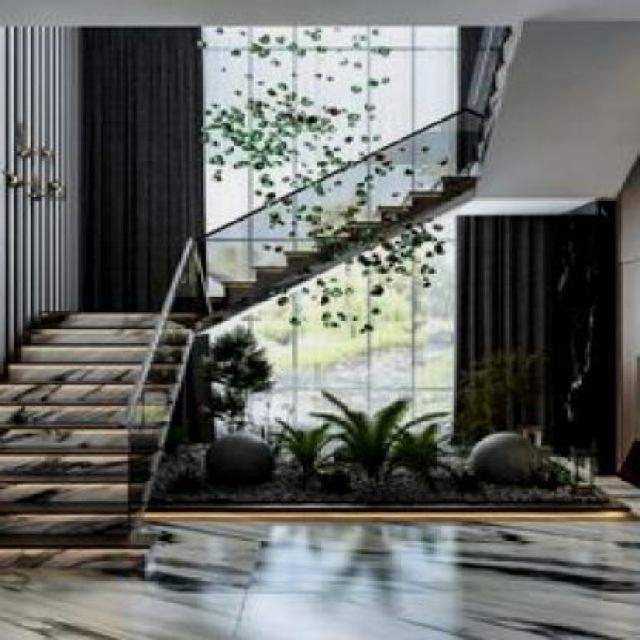stair: (2, 234, 181, 574)
